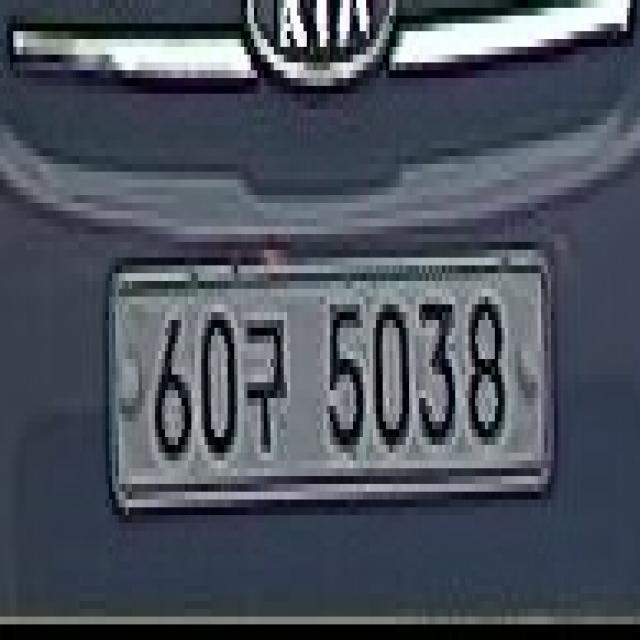0: (196, 301, 240, 458), (371, 289, 414, 449)
3: (418, 291, 460, 449)
5: (322, 291, 368, 449)
6: (148, 301, 194, 461)
8: (466, 290, 510, 445)
gu: (245, 299, 290, 463)
license_plate: (102, 233, 560, 508)
